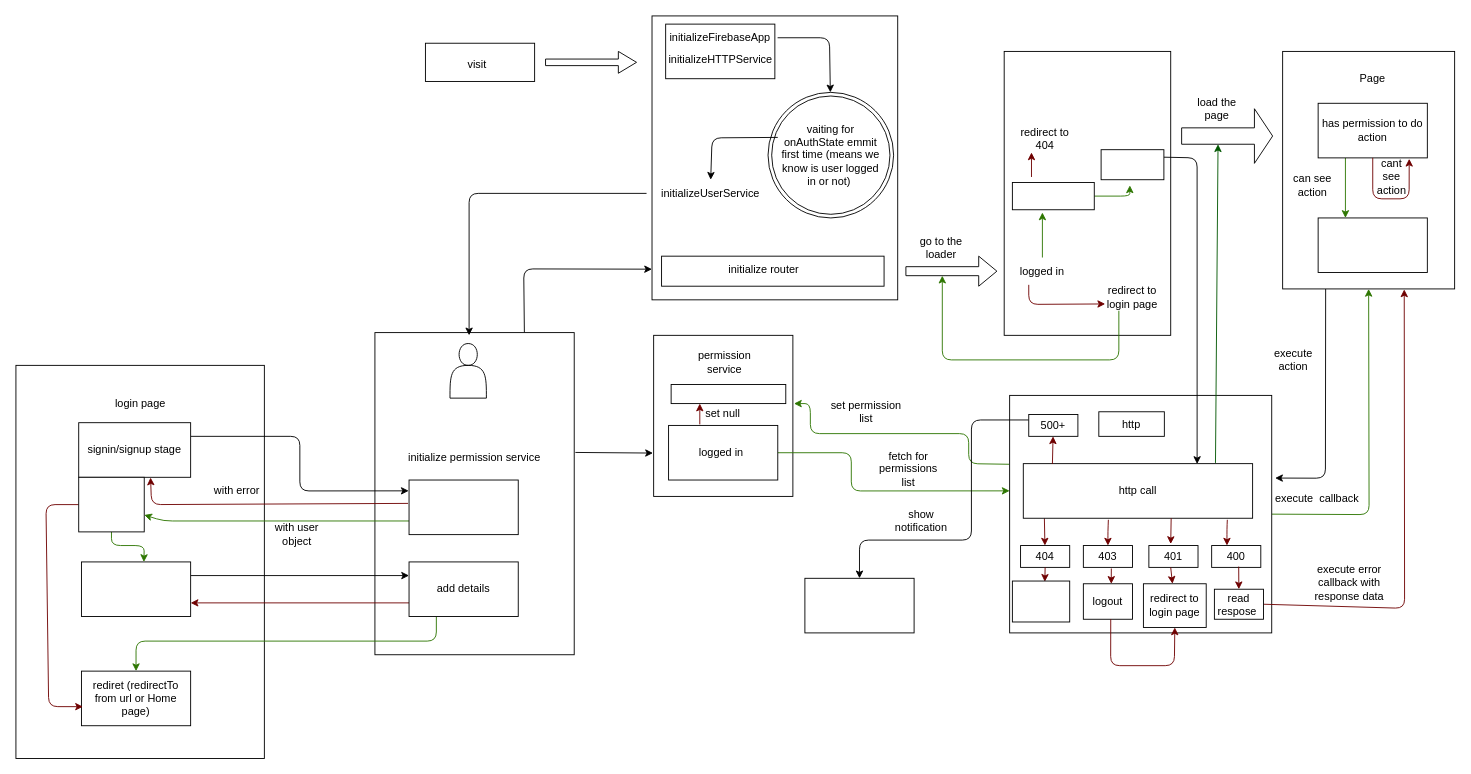
Some shapes in this 1471 by 774 pixel diagram are drawn without their labels. Here are the shapes that lost their labels. From the top down, the centre of each, then its label:
[1132,164]: load data
[1052,196]: has permission
[1372,245]: user action
[728,394]: permession list
[111,504]: is signup form
[463,507]: authenticate with fields validation
[136,589]: add details stage
[859,605]: notification service
[1040,601]: rediiret to 404 page
